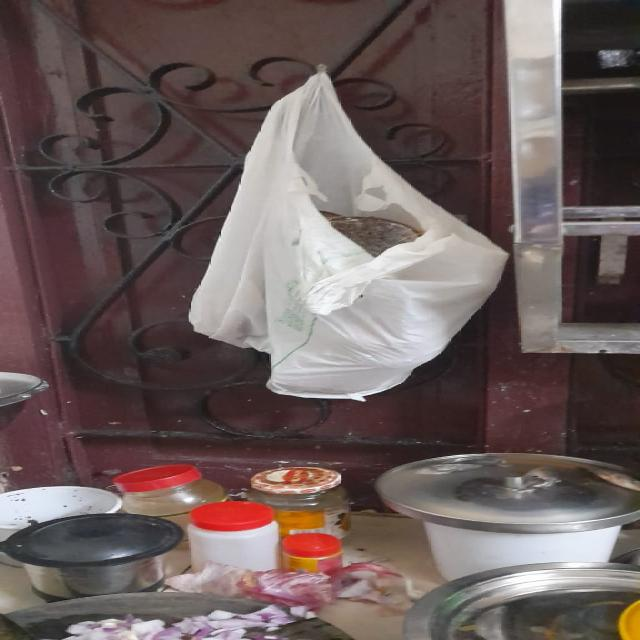Plastic - Recyclable: (156, 82, 510, 410)
